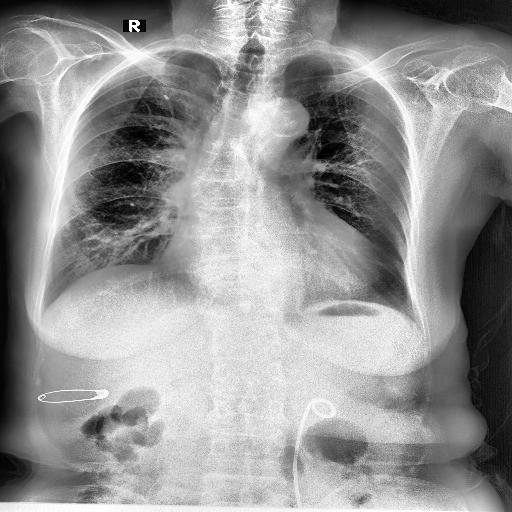0- Aortic enlargement: (248, 98, 312, 140), (255, 98, 311, 139), (261, 97, 307, 140)
3- Cardiomegaly: (164, 222, 382, 300), (160, 228, 381, 296), (156, 236, 377, 302)
